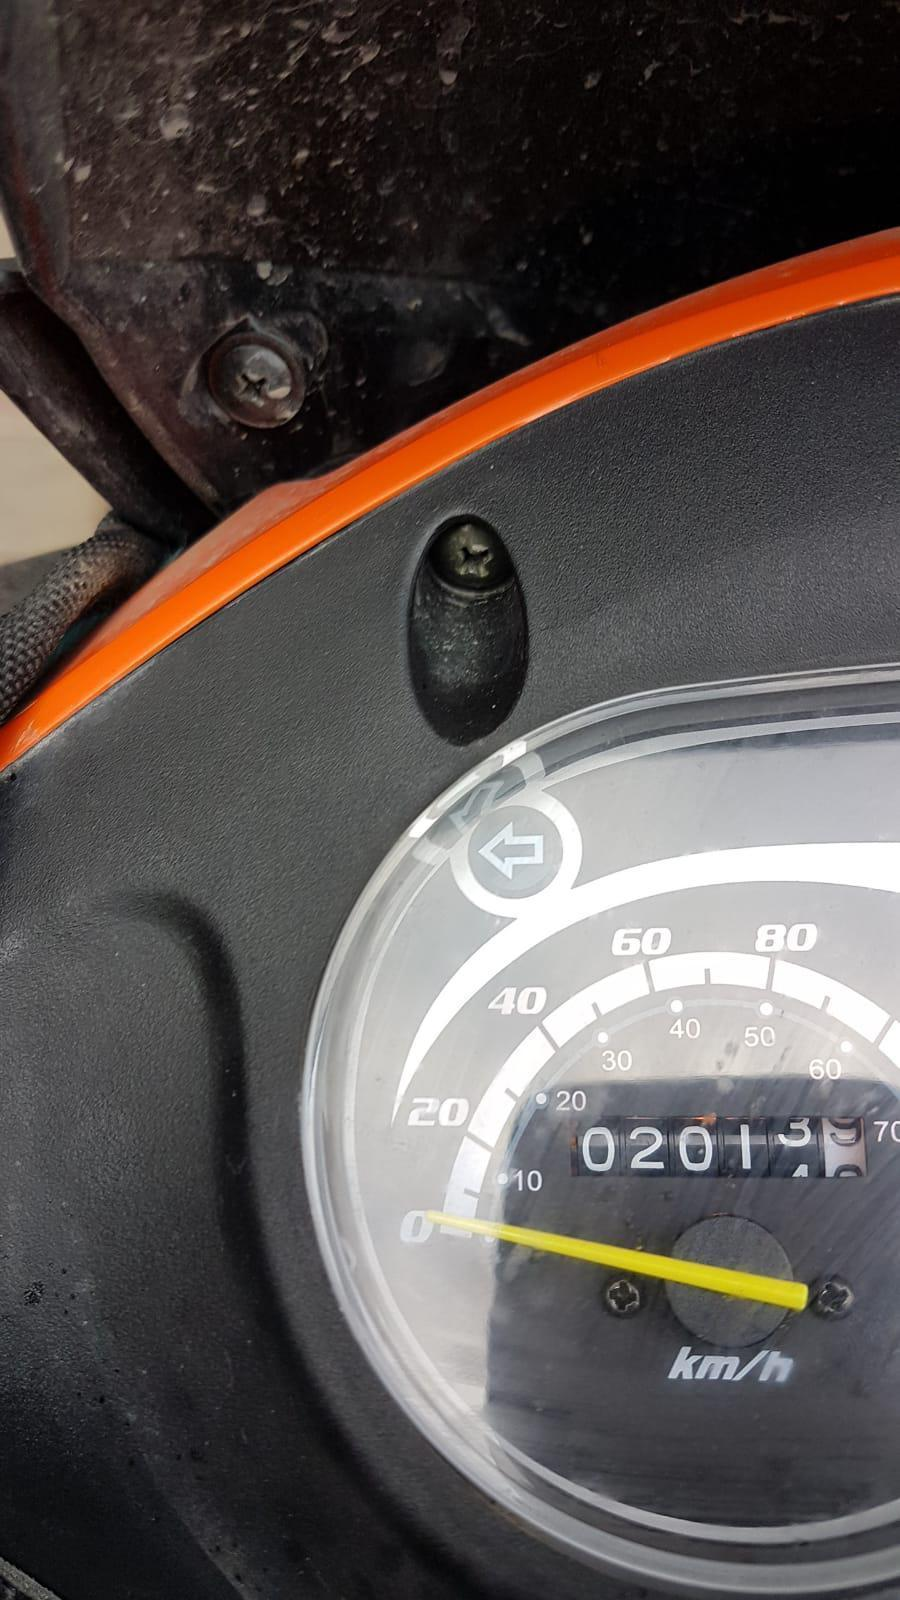0: (578, 1123, 618, 1174), (676, 1123, 713, 1173)
1: (733, 1120, 754, 1170)
2: (625, 1123, 667, 1170)
3: (773, 1116, 814, 1148)
9: (825, 1114, 864, 1147)
odometer: (567, 1113, 869, 1180)
